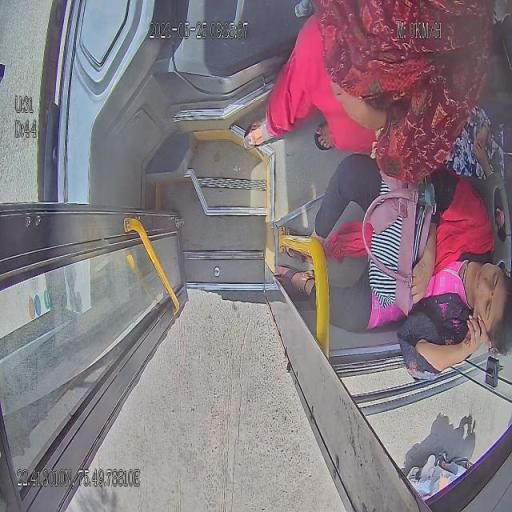persona: (245, 0, 500, 182), (273, 151, 499, 335)
